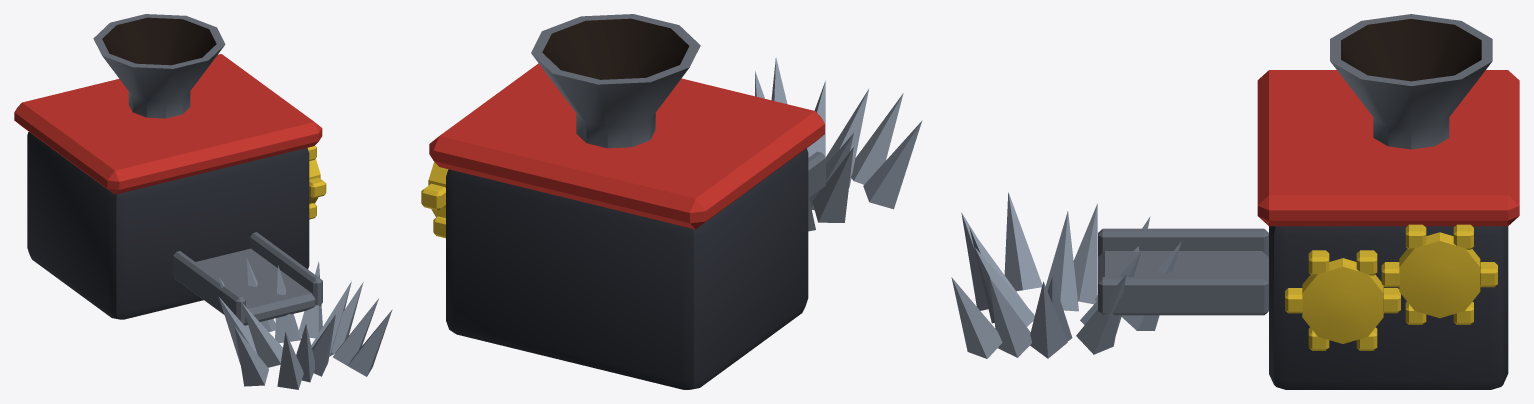
3 renders of one model, left to right at view 1: azimuth 30°, elevation 25°; view 2: azimuth 150°, elevation 25°; view 3: azimuth 270°, elevation 25°, orthographic. The views are drawn at different scales.
Visible parts, largest first — view 1: espinhos_0_base, espinhos_1_torreta; view 2: espinhos_0_base, espinhos_1_torreta; view 3: espinhos_0_base, espinhos_1_torreta.
Part boxes in pixels (box(x1,y1,x2,y2)): espinhos_0_base: box(14, 14, 392, 389); espinhos_1_torreta: box(173, 232, 322, 325); espinhos_0_base: box(421, 14, 922, 389); espinhos_1_torreta: box(808, 151, 825, 198); espinhos_0_base: box(951, 14, 1519, 389); espinhos_1_torreta: box(1098, 228, 1268, 315).
Size of the model in its own units: 0.596 by 0.55 by 0.9975.
